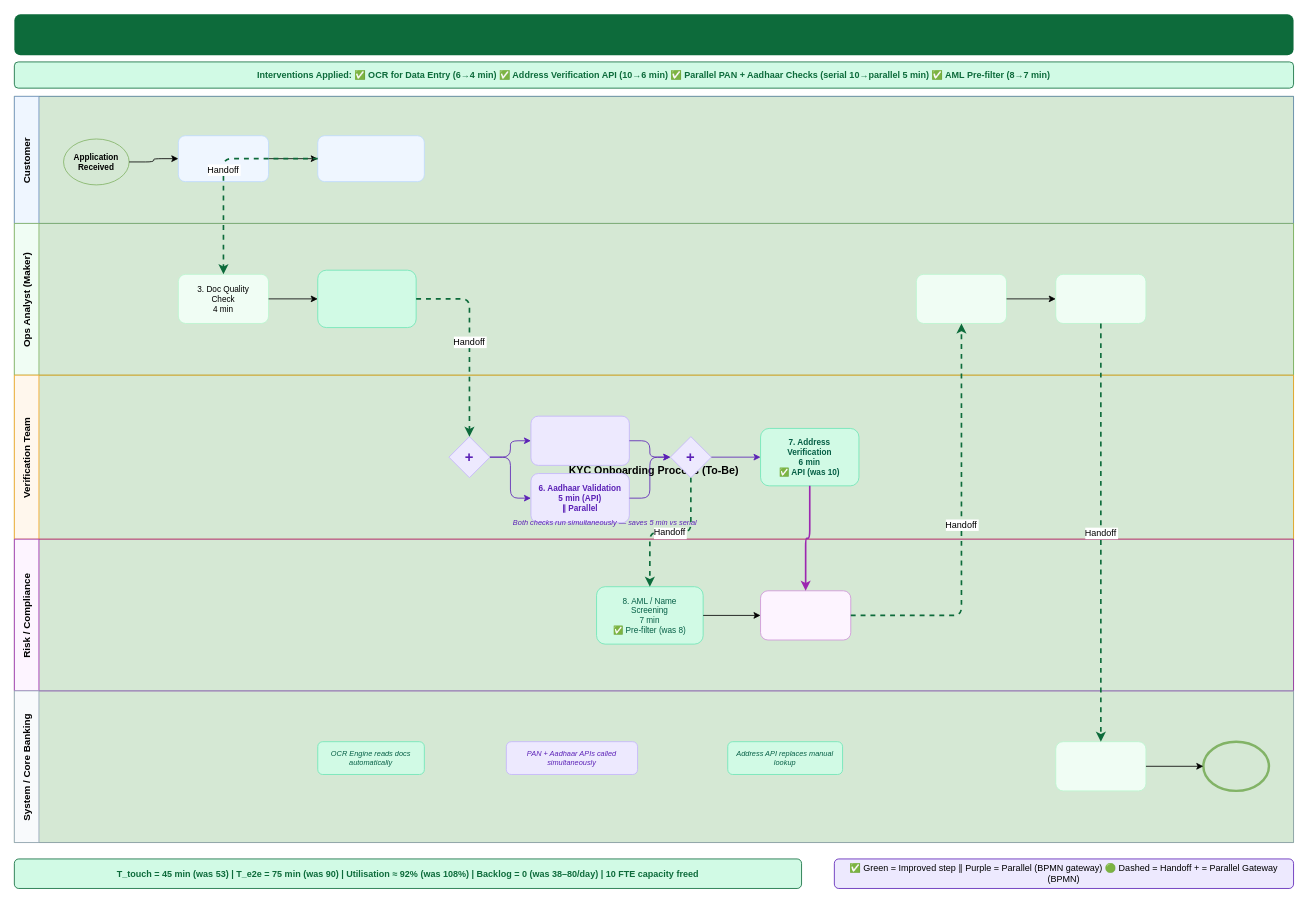
This 1308x903 diagram has some shape labels left out. The centre of each missing label's shape, as x and y in pixels:
"1. Submit Application" belongs at (x=223, y=158).
"10. Checker Approval 5 min" belongs at (x=1100, y=298).
"11. Account Activation 2 min (Auto)" belongs at (x=1100, y=766).
"2. Document Upload (PAN · Aadhaar · Proof)" belongs at (x=370, y=158).
"4. Data Entry 4 min ✅ OCR Auto (was 6 min)" belongs at (x=366, y=298).
"5. PAN Validation 5 min (API) ∥ Parallel" belongs at (x=579, y=440).
"9. Maker Review 6 min" belongs at (x=961, y=298).
"9. Risk Categorisation 4 min" belongs at (x=805, y=615).
"KYC Complete" belongs at (x=1236, y=766).
"KYC Retail Onboarding — TO-BE Process (Optimised State)" belongs at (x=653, y=34).
